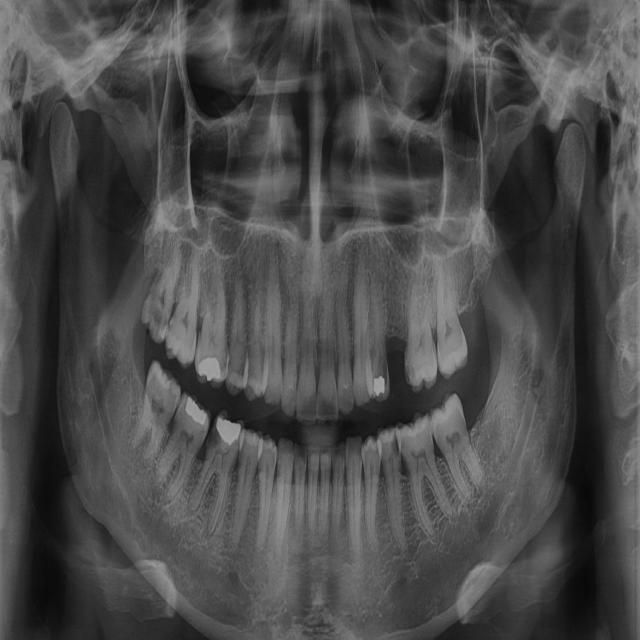Caries: (139, 298, 167, 335), (207, 421, 218, 449), (391, 431, 400, 456), (382, 358, 388, 383)
Filling: (216, 417, 240, 445), (185, 397, 207, 425), (198, 358, 221, 381), (373, 375, 384, 396)
Missing teeth: (386, 335, 409, 395)
